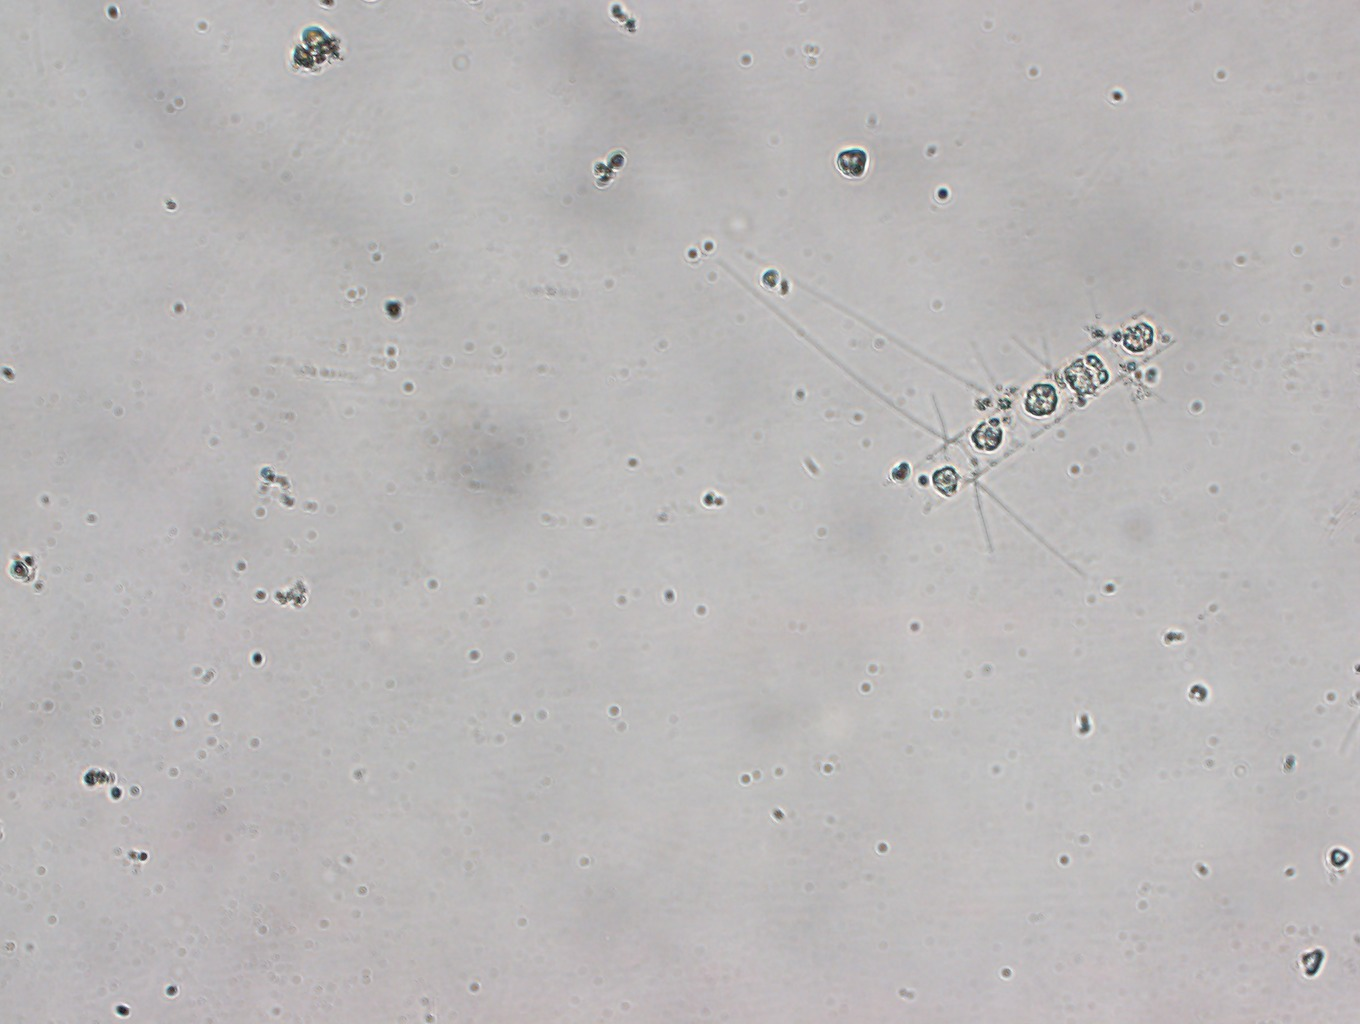chaetoceros: (720, 234, 1183, 586)
